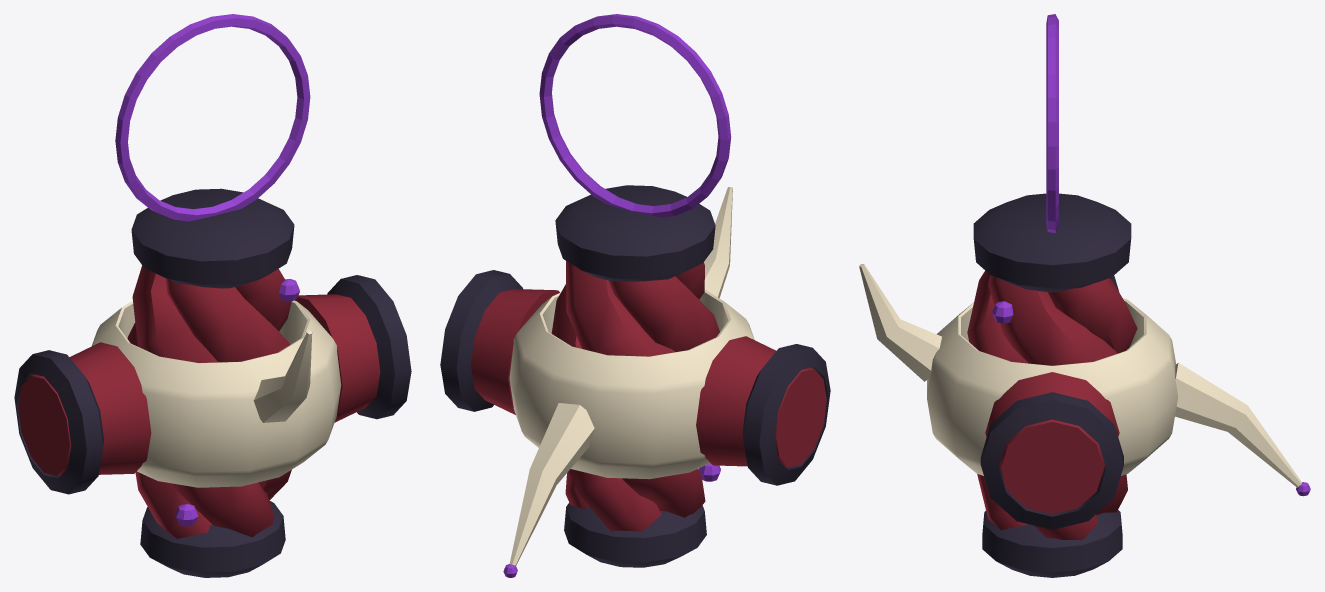
The model's file is Kit_Limb_AoeSpine_S.glb.
3 views of the same model, side by side, from view 1: azimuth 30°, elevation 25°; view 2: azimuth 150°, elevation 25°; view 3: azimuth 270°, elevation 25° (orthographic).
Parts seen in each view (by area): view 1: Kit_Limb_AoeSpine_S; view 2: Kit_Limb_AoeSpine_S; view 3: Kit_Limb_AoeSpine_S.
Boxes of the visible parts, x1,y1,x2,y2 form: Kit_Limb_AoeSpine_S: (14, 14, 411, 577); Kit_Limb_AoeSpine_S: (440, 14, 830, 577); Kit_Limb_AoeSpine_S: (859, 14, 1310, 577).
Bounding box in the file's own units: 0.2048 × 0.3118 × 0.2401.
